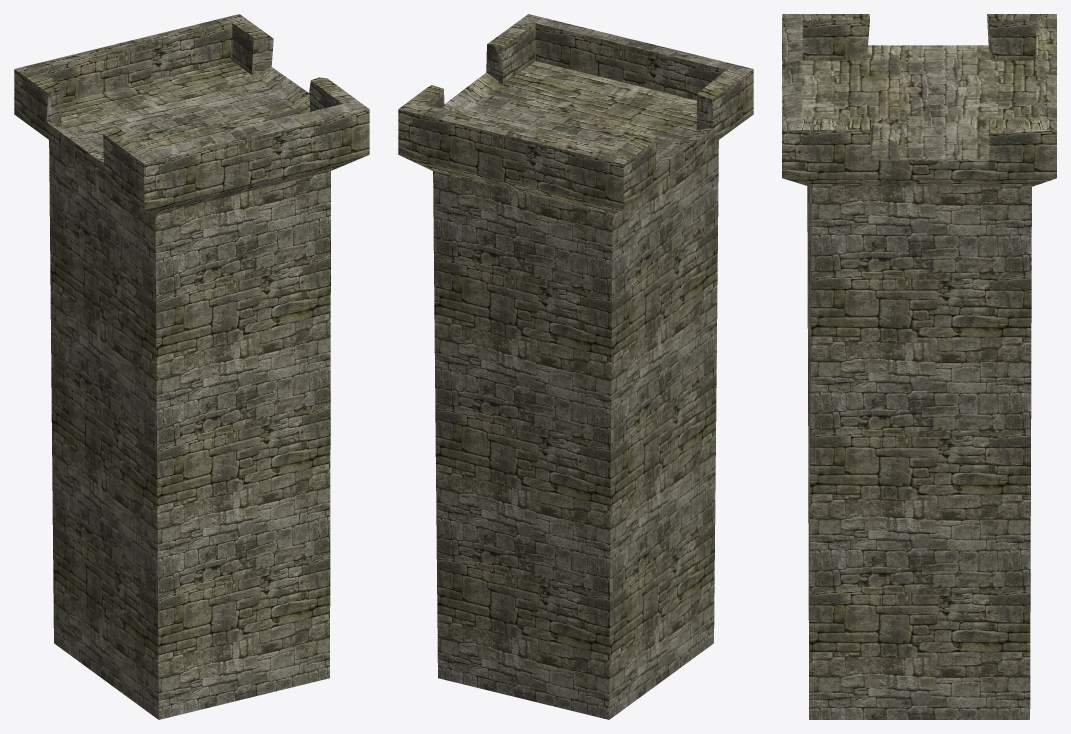
File: tower2_LOD2.fbx
3 views of the same model, side by side, from view 1: azimuth 30°, elevation 25°; view 2: azimuth 150°, elevation 25°; view 3: azimuth 270°, elevation 25° (orthographic). The views are drawn at different scales.
Parts seen in each view (by area): view 1: Default_Layer; view 2: Default_Layer; view 3: Default_Layer.
Part boxes in pixels (x1,y1,x2,y2): Default_Layer: (14, 14, 369, 719); Default_Layer: (398, 14, 753, 719); Default_Layer: (782, 14, 1056, 719).
Bounding box in the file's own units: 1059 × 2546 × 1047.
